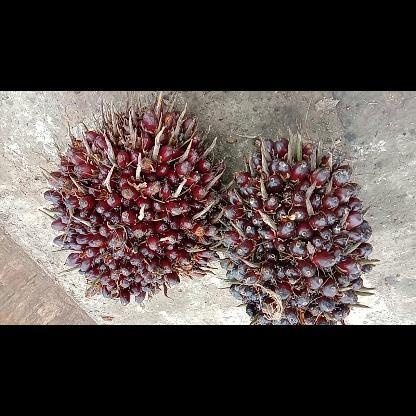Kurang masak: (220, 132, 380, 324)
TBS masak: (41, 91, 219, 307)
